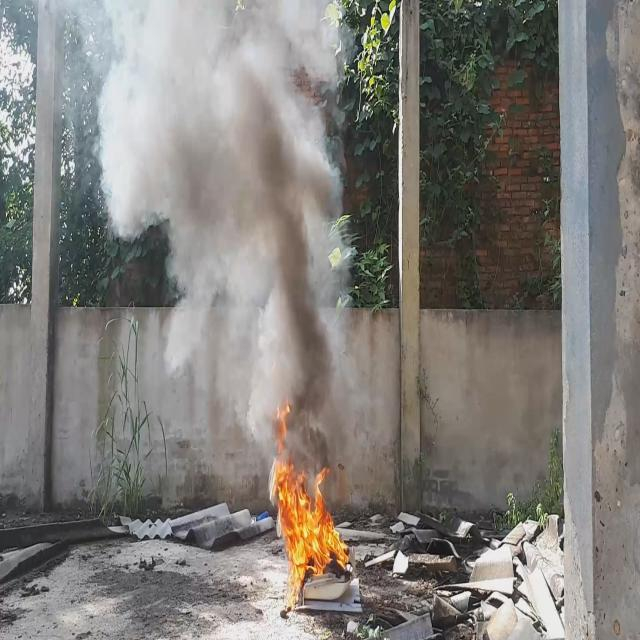Fire: (270, 396, 353, 616)
Smoke: (95, 0, 356, 493)
